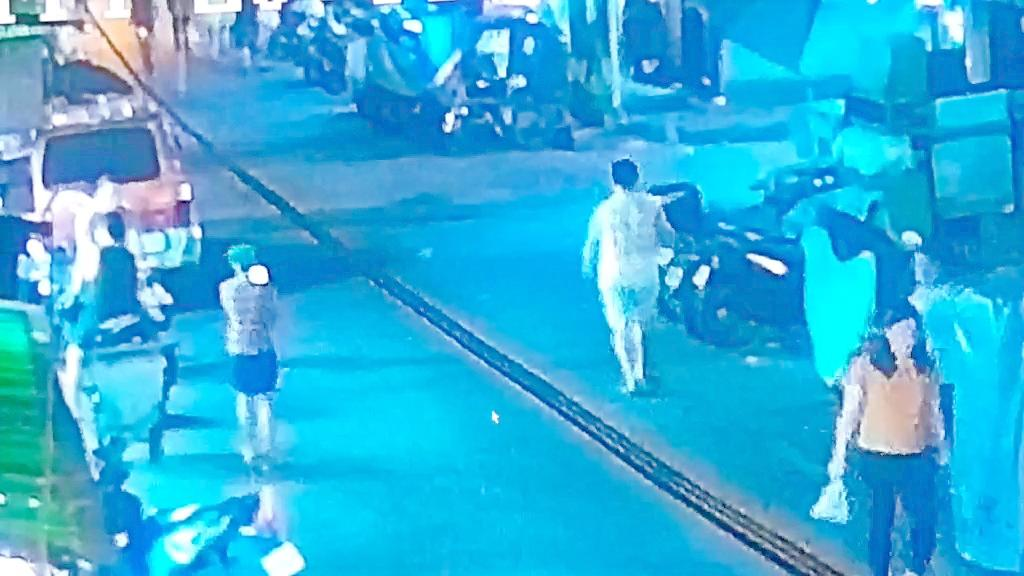Car: (23, 68, 213, 278)
Motor: (638, 138, 863, 336), (325, 4, 523, 144)
